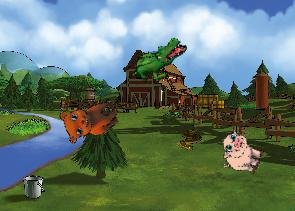bear: (54, 85, 124, 150)
crocodile: (126, 26, 189, 95)
pig: (215, 128, 268, 178)
